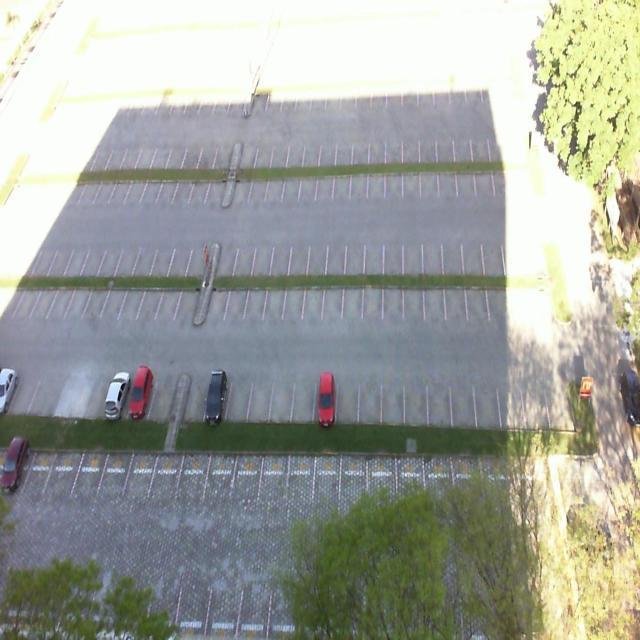Car: (106, 371, 134, 422), (126, 370, 154, 420), (312, 372, 336, 428), (202, 370, 228, 420)
Vacant: (94, 444, 132, 502), (122, 442, 158, 502), (43, 444, 79, 498), (70, 446, 106, 500), (148, 444, 182, 499), (230, 450, 264, 504), (544, 370, 576, 426), (498, 373, 528, 431), (204, 448, 238, 499), (175, 446, 209, 496), (223, 370, 254, 424), (259, 448, 291, 500), (312, 451, 342, 506), (21, 446, 55, 494), (522, 370, 550, 428), (116, 271, 146, 323), (64, 368, 92, 420), (476, 372, 502, 428), (82, 370, 111, 420), (288, 449, 314, 504), (222, 272, 248, 326), (452, 374, 478, 427), (136, 268, 162, 320), (268, 373, 294, 425), (428, 376, 454, 428), (153, 274, 180, 324), (245, 372, 272, 422), (262, 270, 286, 324), (148, 374, 175, 422), (359, 370, 382, 426), (174, 272, 198, 324), (530, 270, 556, 318), (101, 270, 125, 321), (240, 274, 264, 324), (334, 372, 358, 422), (290, 372, 313, 424), (486, 273, 511, 320), (382, 371, 404, 424), (406, 374, 428, 427), (181, 373, 206, 419), (442, 226, 466, 273), (483, 227, 507, 274), (205, 273, 225, 327), (508, 276, 532, 320), (130, 236, 156, 276), (154, 165, 178, 208), (525, 229, 549, 272), (113, 238, 140, 276), (505, 227, 527, 273), (444, 276, 467, 320), (148, 236, 172, 278), (303, 276, 324, 324), (467, 274, 488, 322), (167, 238, 193, 276), (188, 238, 212, 278), (286, 234, 310, 274), (424, 228, 444, 276), (282, 276, 302, 324), (172, 165, 194, 208), (188, 164, 210, 206), (139, 164, 162, 204), (511, 156, 534, 196), (404, 226, 424, 272), (322, 277, 342, 323), (363, 276, 383, 322), (404, 274, 424, 320), (426, 276, 446, 322), (228, 238, 252, 276), (230, 163, 252, 204), (382, 231, 404, 272), (464, 228, 484, 273), (204, 166, 226, 206), (344, 231, 364, 275), (306, 234, 328, 273), (212, 239, 235, 276), (384, 276, 402, 322), (251, 235, 273, 272), (268, 236, 290, 273), (345, 275, 362, 321), (324, 235, 344, 273), (266, 166, 284, 207), (282, 163, 300, 204), (364, 235, 383, 273), (478, 158, 496, 198), (458, 162, 478, 197), (494, 160, 514, 195), (299, 166, 317, 204), (368, 162, 386, 200), (250, 166, 268, 203), (332, 166, 350, 202), (403, 162, 421, 198), (422, 162, 440, 198), (440, 162, 458, 194), (388, 162, 403, 200), (316, 166, 332, 201), (351, 164, 367, 198)
